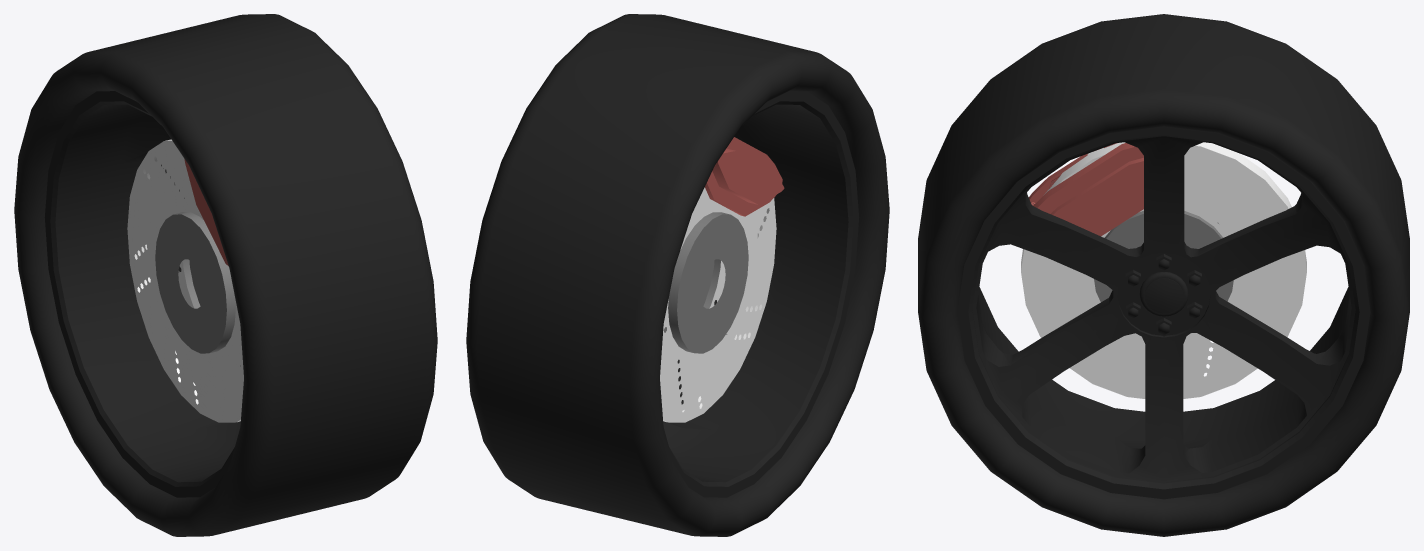
The model's file is challenger-wheel.glb.
3 views of the same model, side by side, from view 1: azimuth 30°, elevation 25°; view 2: azimuth 150°, elevation 25°; view 3: azimuth 270°, elevation 25° (orthographic).
Visible parts, largest first — view 1: convexhull.115_ID714, convexhull.116_ID720, convexhull.152_ID936, convexhull.178_ID1092, convexhull.153_ID942, instance_2.009_ID66, convexhull.151_ID930; view 2: convexhull.115_ID714, convexhull.116_ID720, convexhull.152_ID936, convexhull.178_ID1092, convexhull.153_ID942, instance_2.009_ID66, instance_2_ID6, convexhull.151_ID930; view 3: convexhull.115_ID714, convexhull.116_ID720, convexhull.152_ID936, convexhull.154_ID948, instance_2.001_ID14, instance_2.008_ID60, convexhull.151_ID930, convexhull.118_ID732, convexhull.117_ID726.
Boxes of the visible parts, x1,y1,x2,y2 form: convexhull.115_ID714: (14, 14, 437, 536); convexhull.116_ID720: (50, 101, 240, 486); convexhull.152_ID936: (127, 139, 243, 422); convexhull.178_ID1092: (155, 212, 235, 353); convexhull.153_ID942: (44, 91, 233, 497); instance_2.009_ID66: (184, 159, 228, 266); convexhull.151_ID930: (183, 259, 203, 308); convexhull.115_ID714: (466, 14, 889, 536); convexhull.116_ID720: (663, 101, 853, 486); convexhull.152_ID936: (660, 187, 776, 422); convexhull.178_ID1092: (668, 212, 748, 353); convexhull.153_ID942: (670, 91, 859, 497); instance_2.009_ID66: (712, 148, 784, 204); instance_2_ID6: (705, 137, 782, 216); convexhull.151_ID930: (664, 259, 720, 332); convexhull.115_ID714: (918, 14, 1409, 536); convexhull.116_ID720: (968, 135, 1359, 489); convexhull.152_ID936: (1021, 142, 1306, 398); convexhull.154_ID948: (957, 127, 1370, 499); instance_2.001_ID14: (1050, 157, 1143, 231); instance_2.008_ID60: (1033, 143, 1143, 236); convexhull.151_ID930: (1094, 210, 1233, 333); convexhull.118_ID732: (1144, 278, 1183, 313); convexhull.117_ID726: (1139, 272, 1188, 316).
Bounding box in the file's own units: 0.1938 × 0.4451 × 0.4451.
